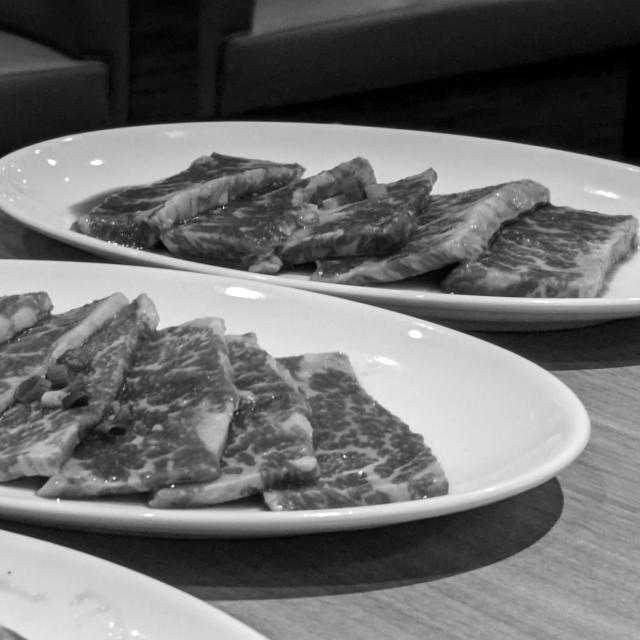NG raw beef,: (23, 310, 230, 504), (265, 343, 465, 516), (150, 327, 324, 515), (0, 288, 164, 487), (310, 174, 559, 293), (153, 151, 382, 280), (74, 140, 318, 253), (429, 201, 640, 310), (275, 163, 449, 269), (0, 289, 135, 421), (0, 286, 66, 352)
